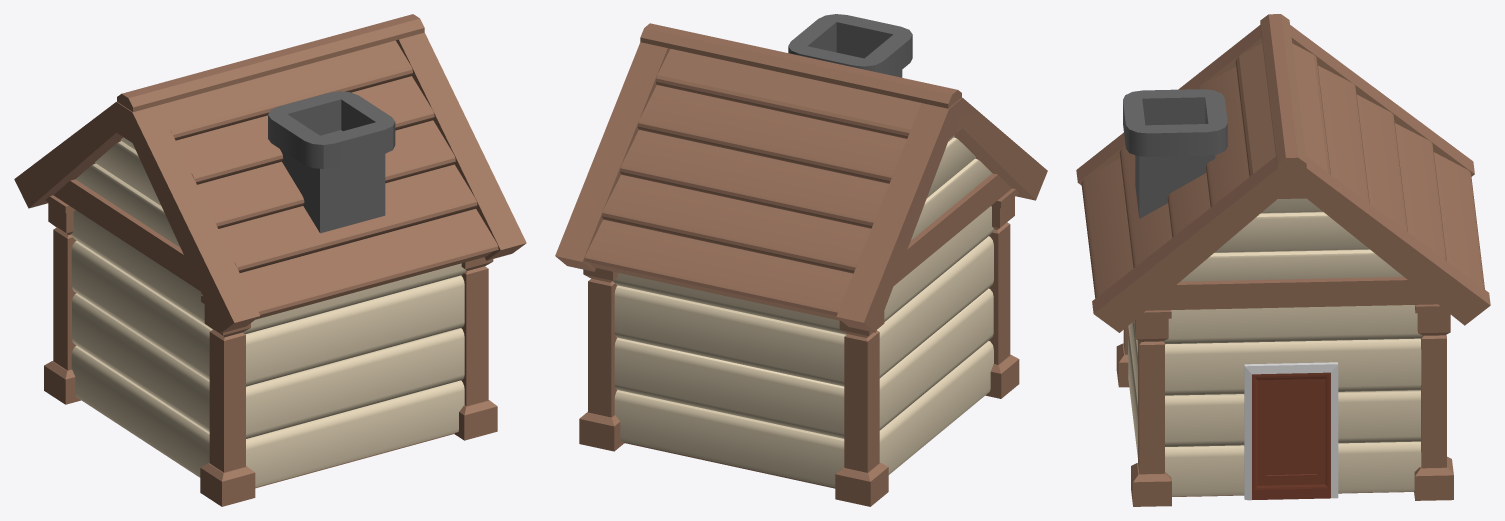
File: casa.obj
The picture shows the model from 3 angles, left to right: view 1: azimuth 30°, elevation 25°; view 2: azimuth 150°, elevation 25°; view 3: azimuth 270°, elevation 25°; orthographic projection.
Parts seen in each view (by area): view 1: house_Roof.005, house_Wall.004, house_Chimney.002; view 2: house_Roof.005, house_Wall.004, house_Chimney.002; view 3: house_Roof.005, house_Wall.004, house_Door.002, house_Chimney.002, house_White.003.
Part boxes in pixels (x1,y1,x2,y2): house_Roof.005: (14, 14, 526, 506); house_Wall.004: (71, 137, 466, 487); house_Chimney.002: (268, 91, 395, 233); house_Roof.005: (555, 23, 1047, 506); house_Wall.004: (613, 135, 994, 487); house_Chimney.002: (788, 14, 912, 77); house_Roof.005: (1076, 14, 1490, 506); house_Wall.004: (1128, 198, 1422, 496); house_Door.002: (1252, 372, 1330, 499); house_Chimney.002: (1123, 89, 1227, 218); house_White.003: (1244, 362, 1338, 500).
Bounding box in the file's own units: 6.36 × 6.78 × 7.3.
